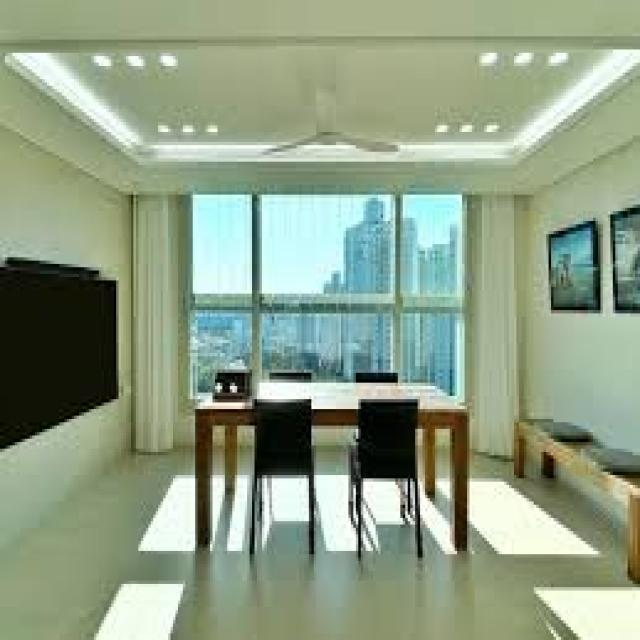Chair: (352, 393, 428, 553), (250, 396, 318, 556)
Sofa: (515, 402, 640, 586)
Table: (194, 383, 471, 558)
tv: (4, 263, 120, 445)
window: (148, 193, 504, 382)
